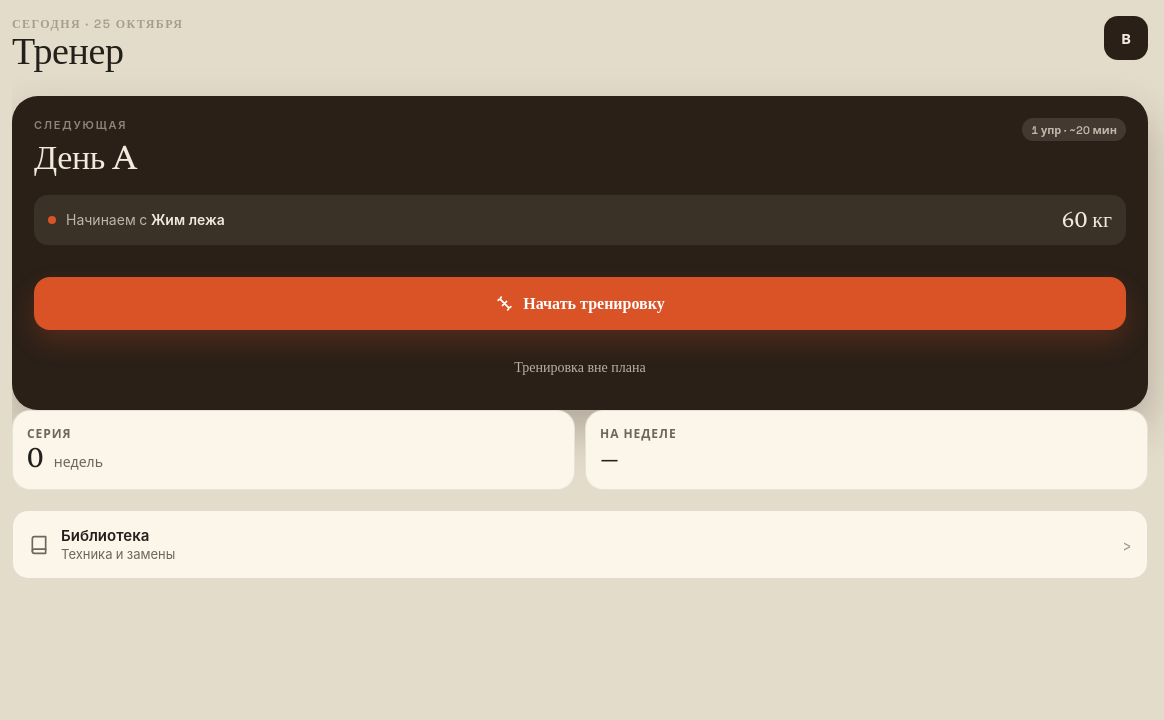
Test: CoachHome — profile avatar dropdown (#116) › opens the user menu on tap and lists users with the active one checked
Click the button named "Профиль Вячеслав" at [1126, 38], box [1104,16,1148,60]
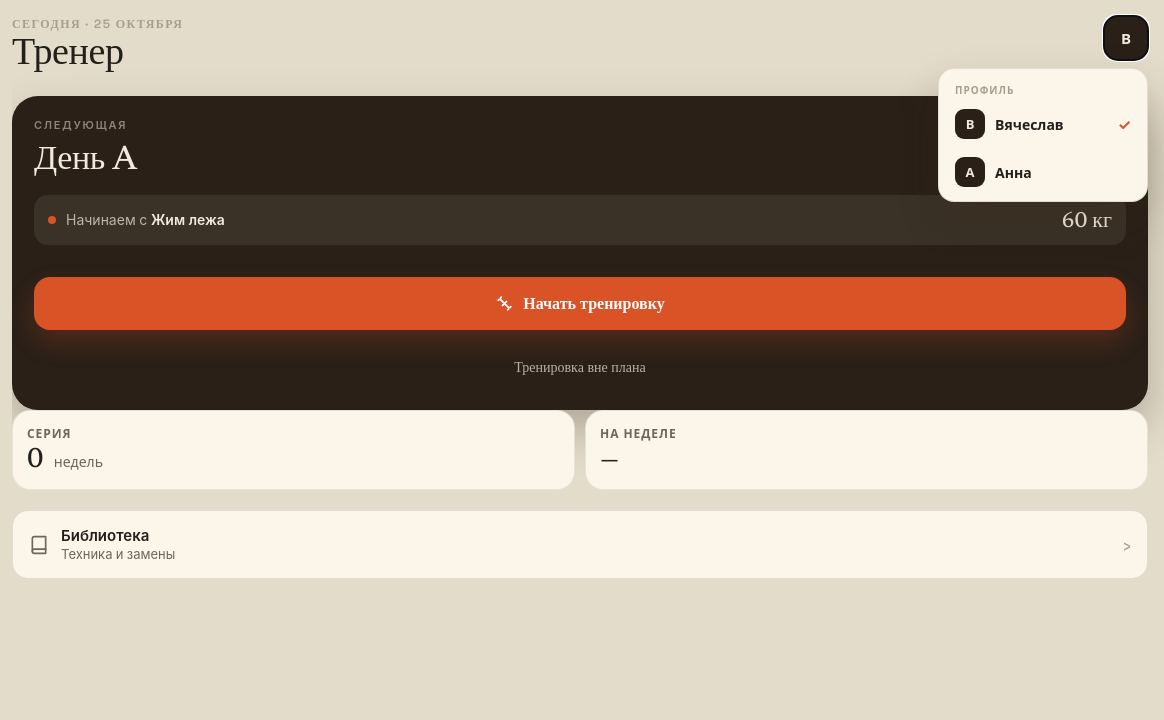
Expected: the button named "Профиль Вячеслав" is expanded, [1104,16,1148,60]
Expected: the menu "Профиль" is shown, [938,68,1148,202]
